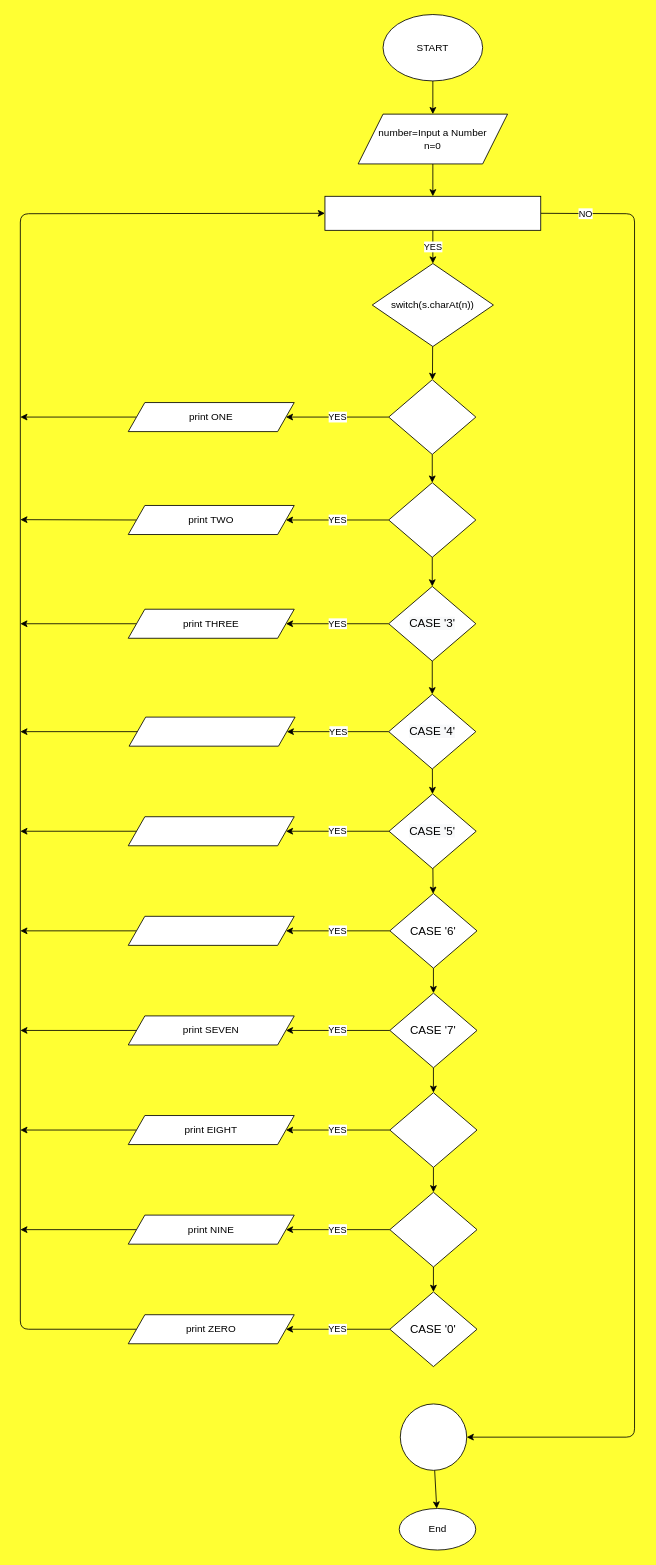
This 656x1565 diagram has some shape labels left out. Each missing label, with the centre of its shape:
"CASE '1'" goes at (x=432, y=416).
"CASE '2'" goes at (x=432, y=519).
"CASE '8'" goes at (x=433, y=1129).
"CASE '9'" goes at (x=433, y=1229).
"print FIVE" goes at (x=210, y=831).
"print FOUR" goes at (x=211, y=731).
"print SIX" goes at (x=210, y=930).
"String s=String.valueOf(number) for(n=0 ; n < s.length() ; n++)" goes at (x=432, y=212).
